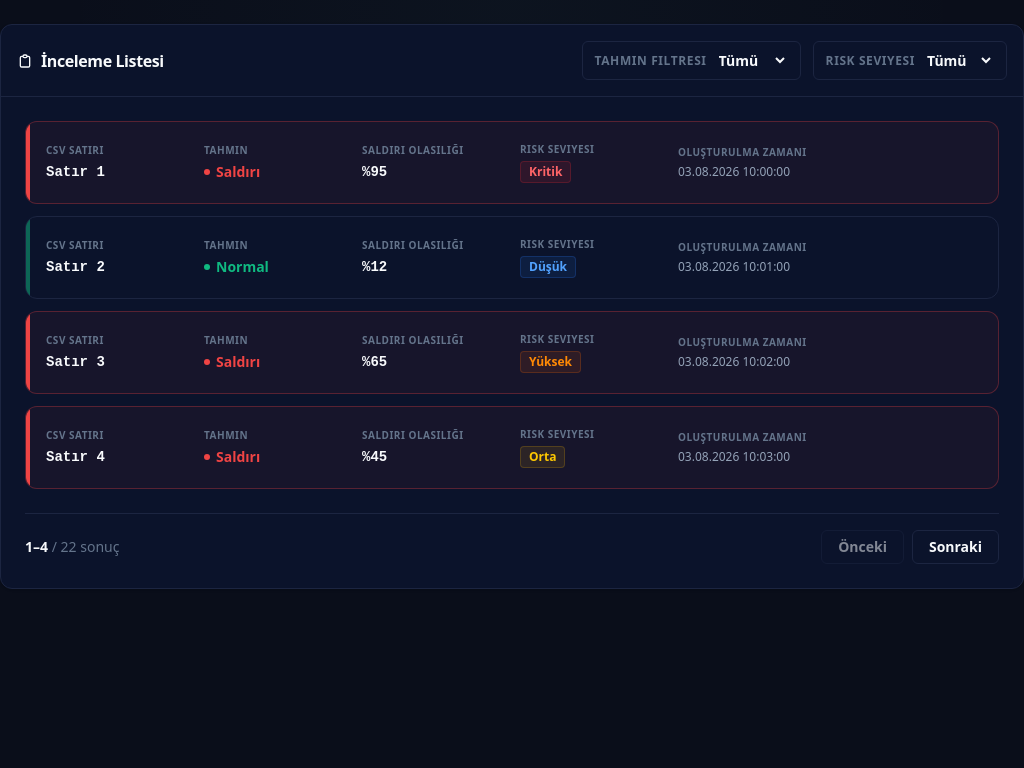
DetectionResultsList › 15. Son sayfada eksik kayıt olsa bile aralık doğru gösterilir
The width and height of the screenshot is (1024, 768).
Click the button "Sonraki".
click(955, 547)  # box [912,530,999,564]
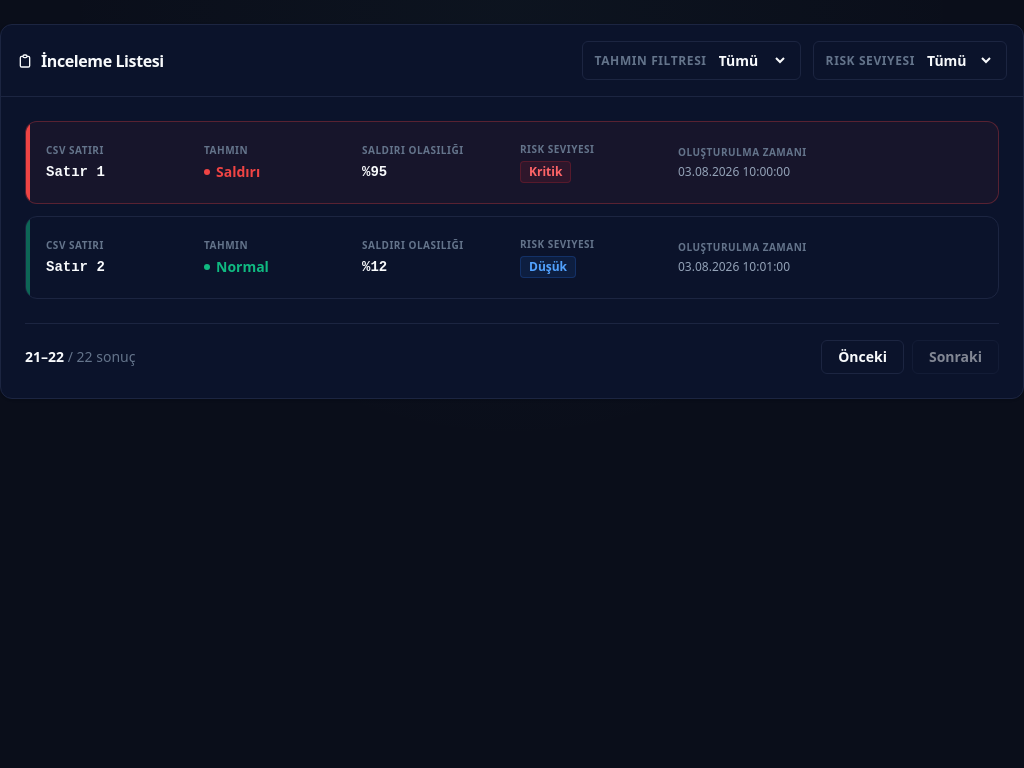
Expected: the text "/ 22 sonuç" is shown, [25,347,135,367]
Now the text "21–22" is shown, box [25,347,64,366]
